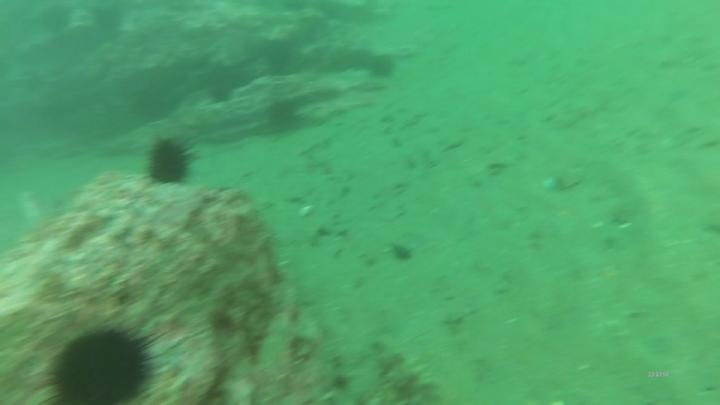echinus: (41, 319, 169, 405), (144, 135, 192, 191), (262, 96, 301, 135)
